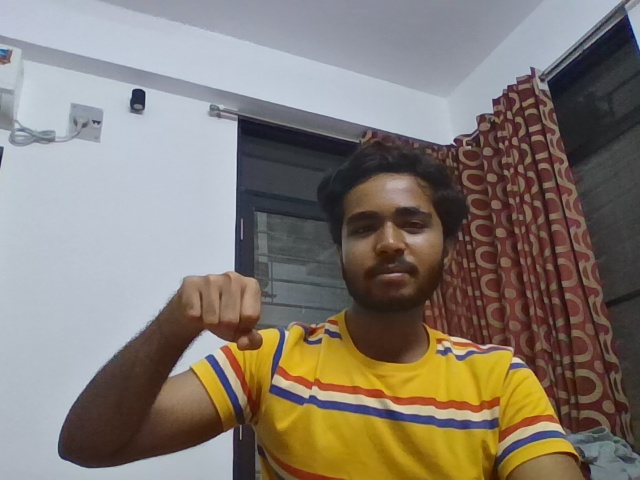Yes: (158, 255, 283, 370)
